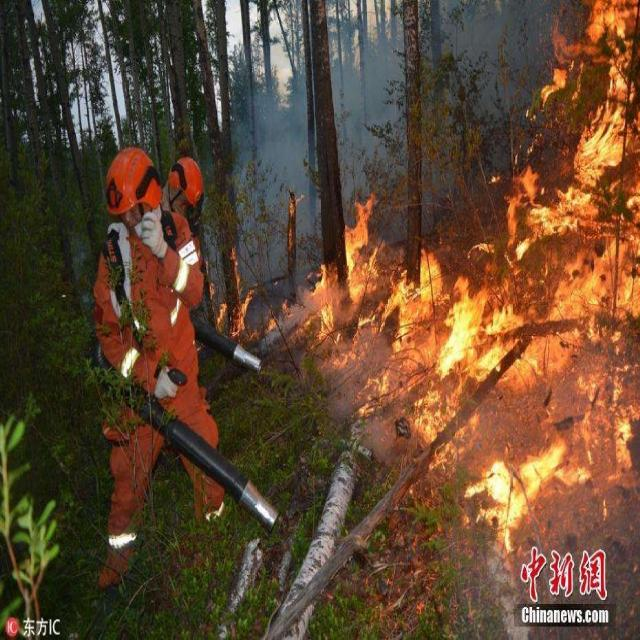fire: (297, 14, 635, 526)
